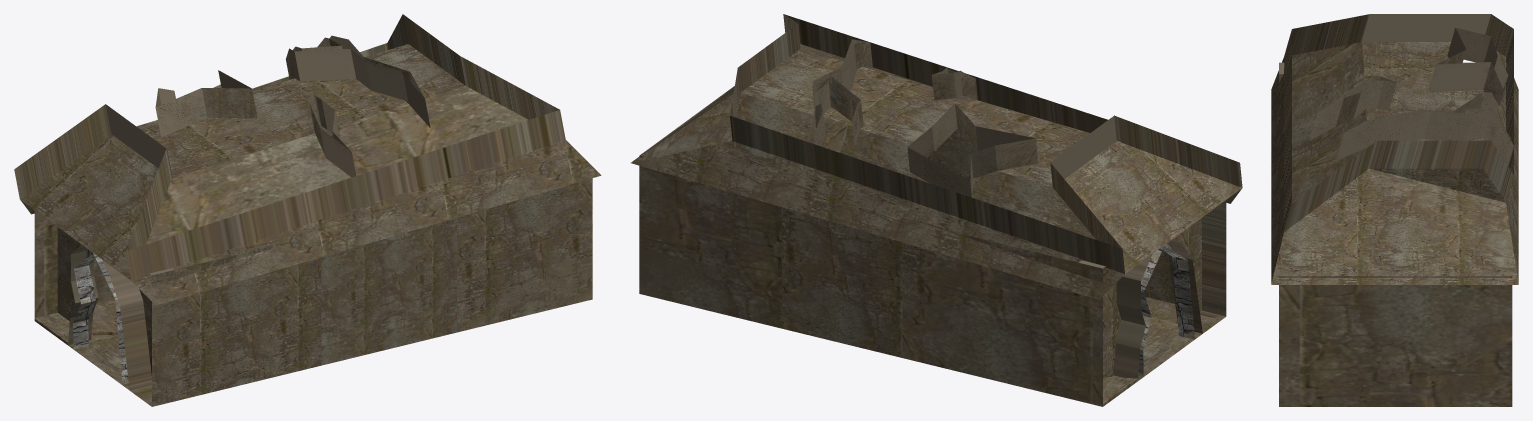
Rendered from cave1.glb.
3 renders of one model, left to right at view 1: azimuth 30°, elevation 25°; view 2: azimuth 150°, elevation 25°; view 3: azimuth 270°, elevation 25°, orthographic. The views are drawn at different scales.
Visible parts, largest first — view 1: Plane.001, Plane; view 2: Plane.001, Plane; view 3: Plane.001, Plane.
Part boxes in pixels (x1,y1,x2,y2): Plane.001: [14, 14, 601, 305]; Plane: [34, 120, 592, 406]; Plane.001: [631, 14, 1242, 299]; Plane: [639, 86, 1226, 406]; Plane.001: [1271, 14, 1518, 284]; Plane: [1279, 62, 1512, 406].
Bounding box in the file's own units: 68.67 × 32.58 × 31.83.
3 materials, 3 textured.
